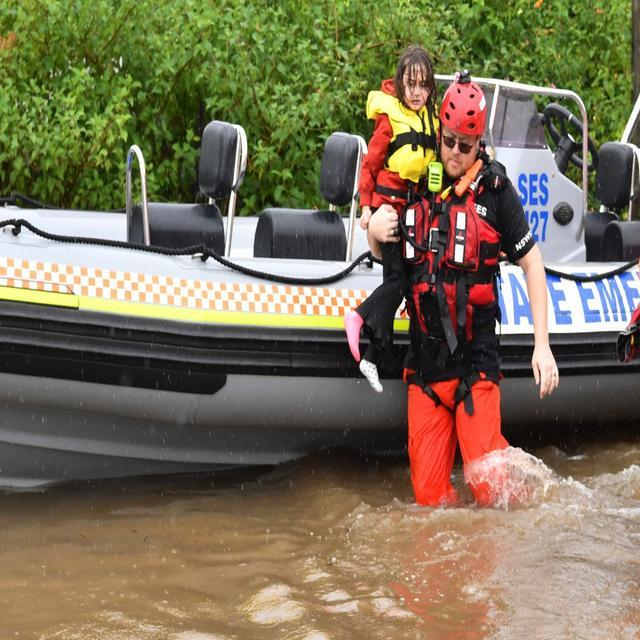Person-RiskLevel2: (331, 35, 568, 526)
